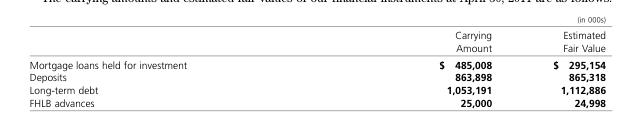table: (28, 28, 605, 108)
table column: (28, 28, 312, 108), (312, 28, 521, 108), (521, 28, 605, 108)
table column header: (28, 28, 605, 55)
table row: (28, 28, 605, 55), (28, 55, 605, 70), (28, 70, 605, 83), (28, 95, 605, 108), (28, 83, 605, 95)
